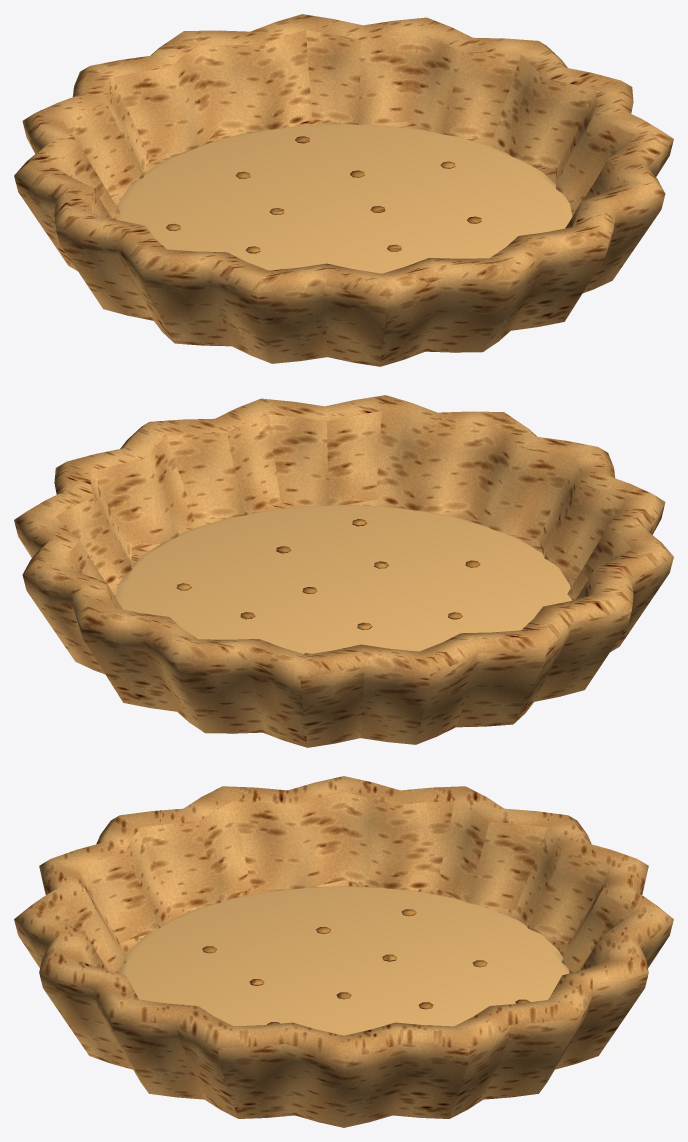
File: tart_shell.glb
3 views of the same model, one above another, from view 1: azimuth 30°, elevation 25°; view 2: azimuth 150°, elevation 25°; view 3: azimuth 270°, elevation 25° (orthographic).
Parts seen in each view (by area): view 1: tart_shell; view 2: tart_shell; view 3: tart_shell.
Part boxes in pixels (<box>): tart_shell: <box>14,14,673,366</box>; tart_shell: <box>14,395,673,747</box>; tart_shell: <box>14,776,673,1127</box>.
Bounding box in the file's own units: 2 × 0.3687 × 2.
Materials: 3 (2 with a texture image).
